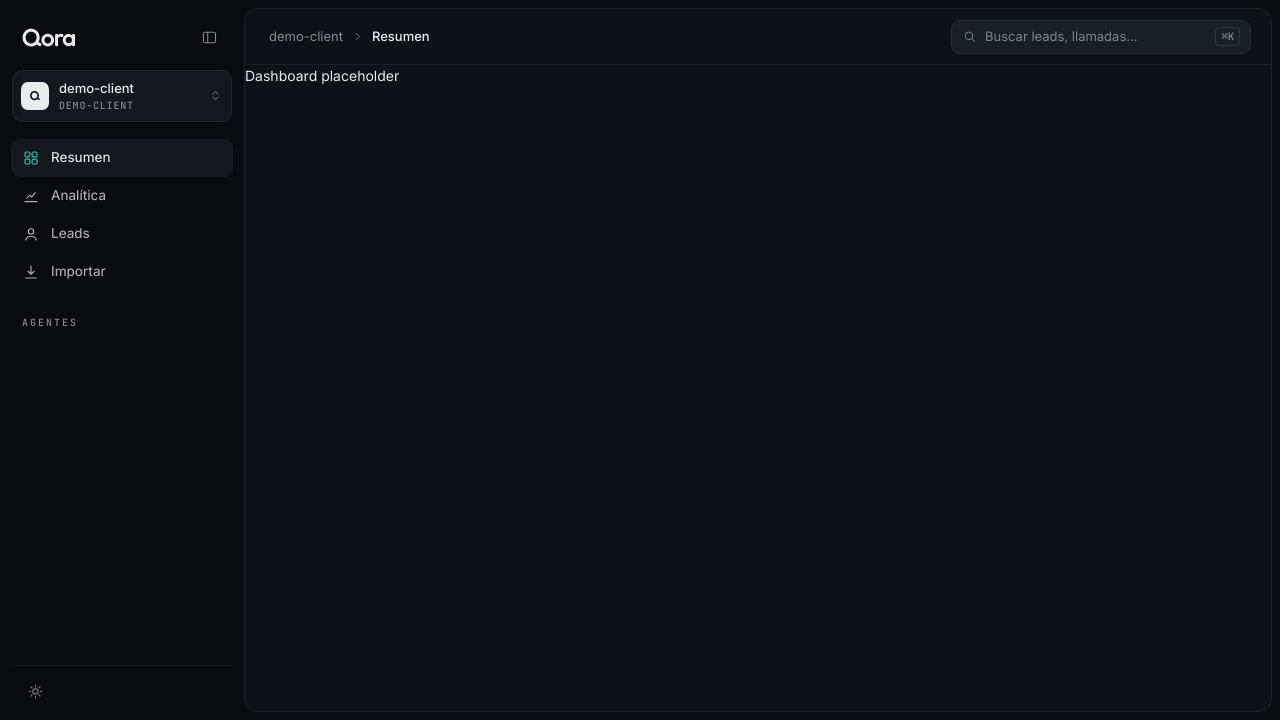
Test: AppLayout › toggling the sidebar collapse button adds `.collapsed` and persists it to localStorage
Click the button titled "Colapsar" at (209, 37), box top-left (194, 22), bottom-right (224, 52)
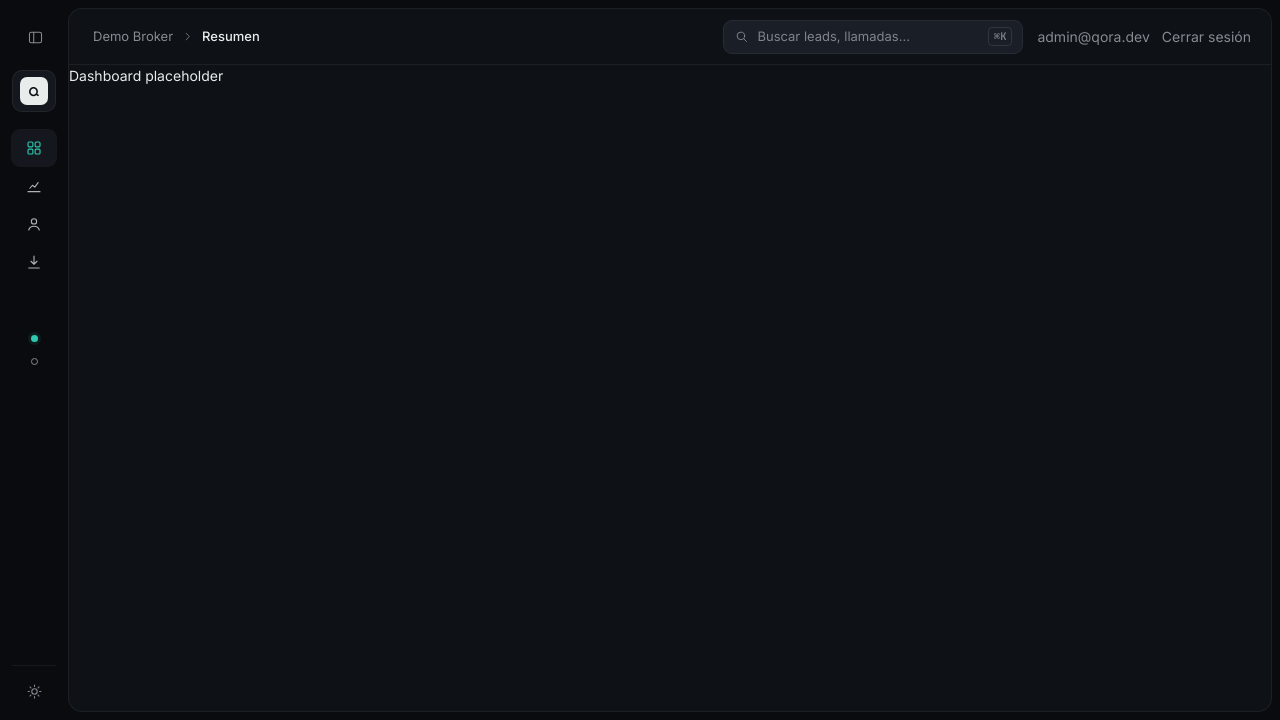
Expected: the element with class "collapsed" is shown
